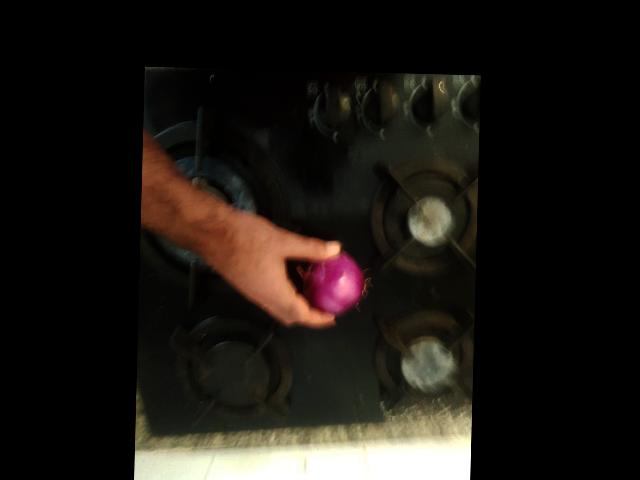onion: (341, 346, 411, 403)
